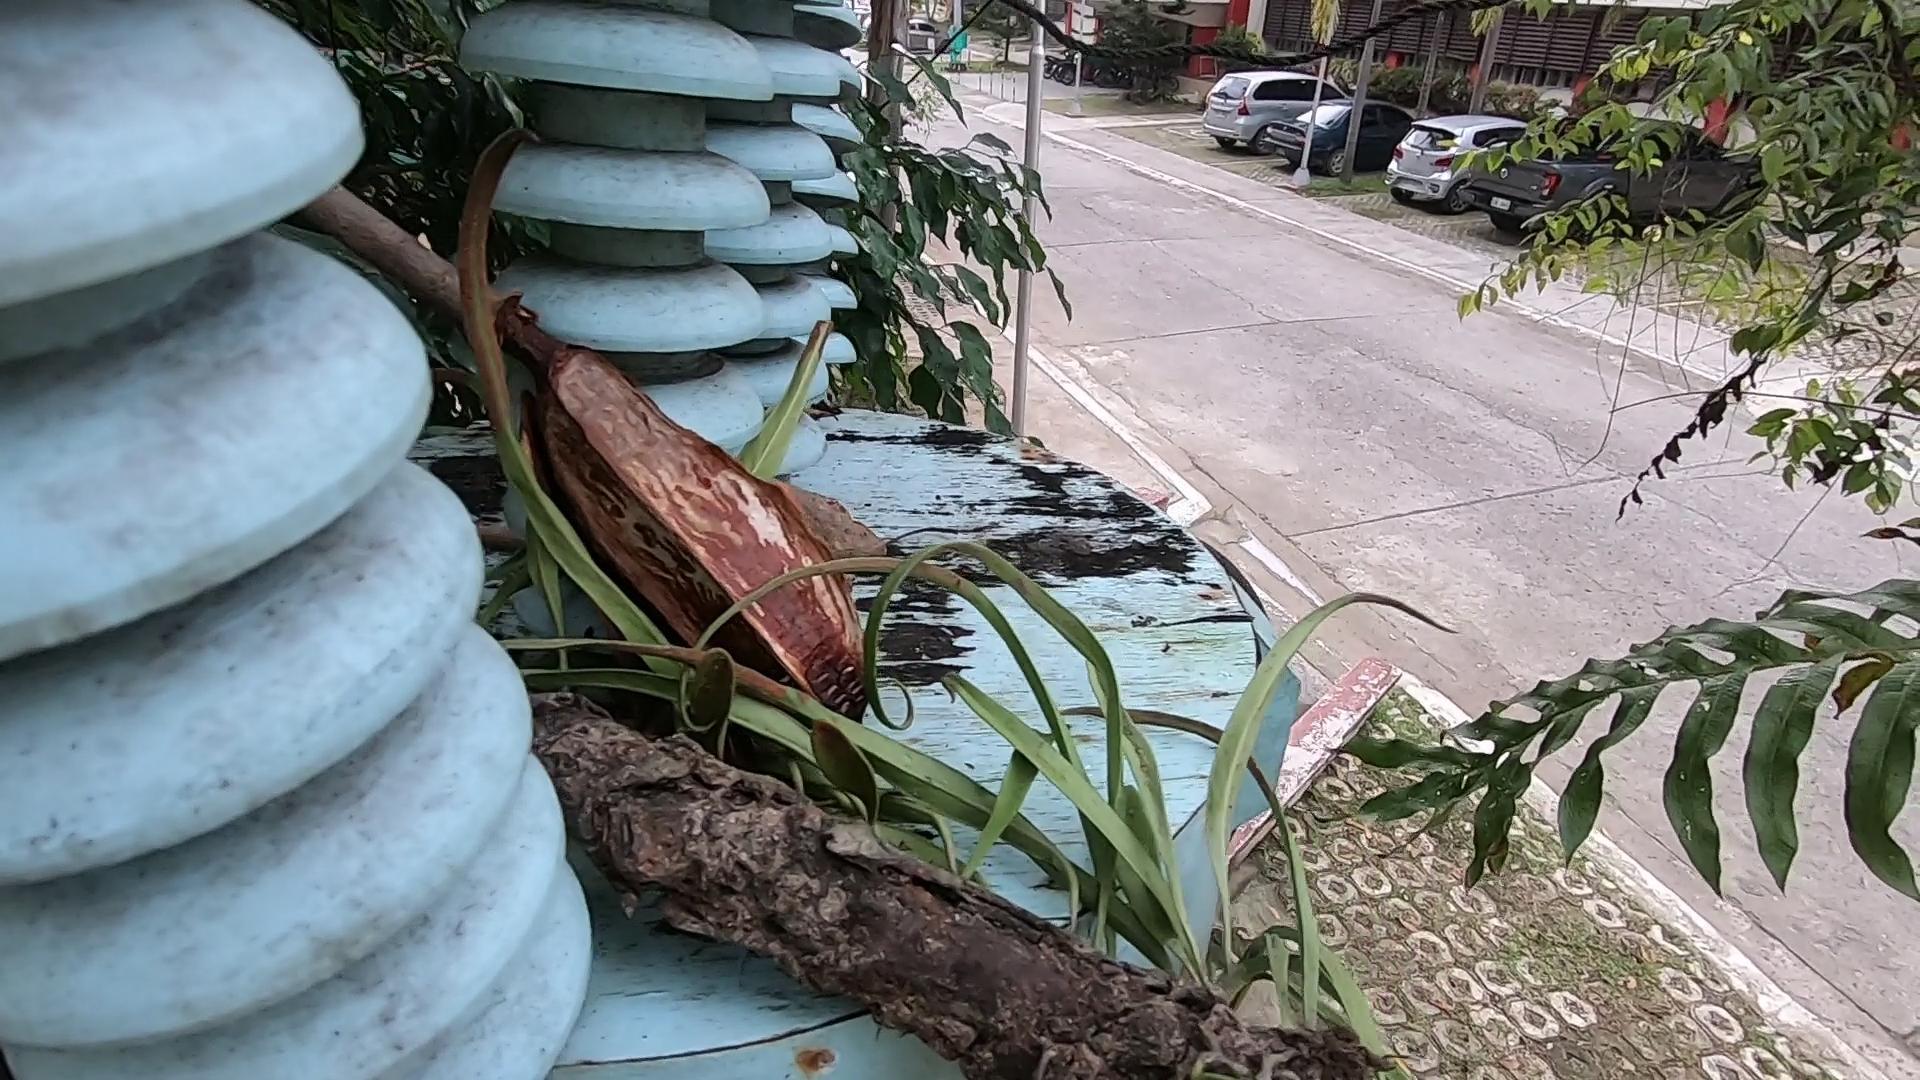branch with leaves: (541, 732, 1377, 1080)
mahogany fruit: (293, 249, 1095, 803)
tree branch: (274, 165, 504, 369)
